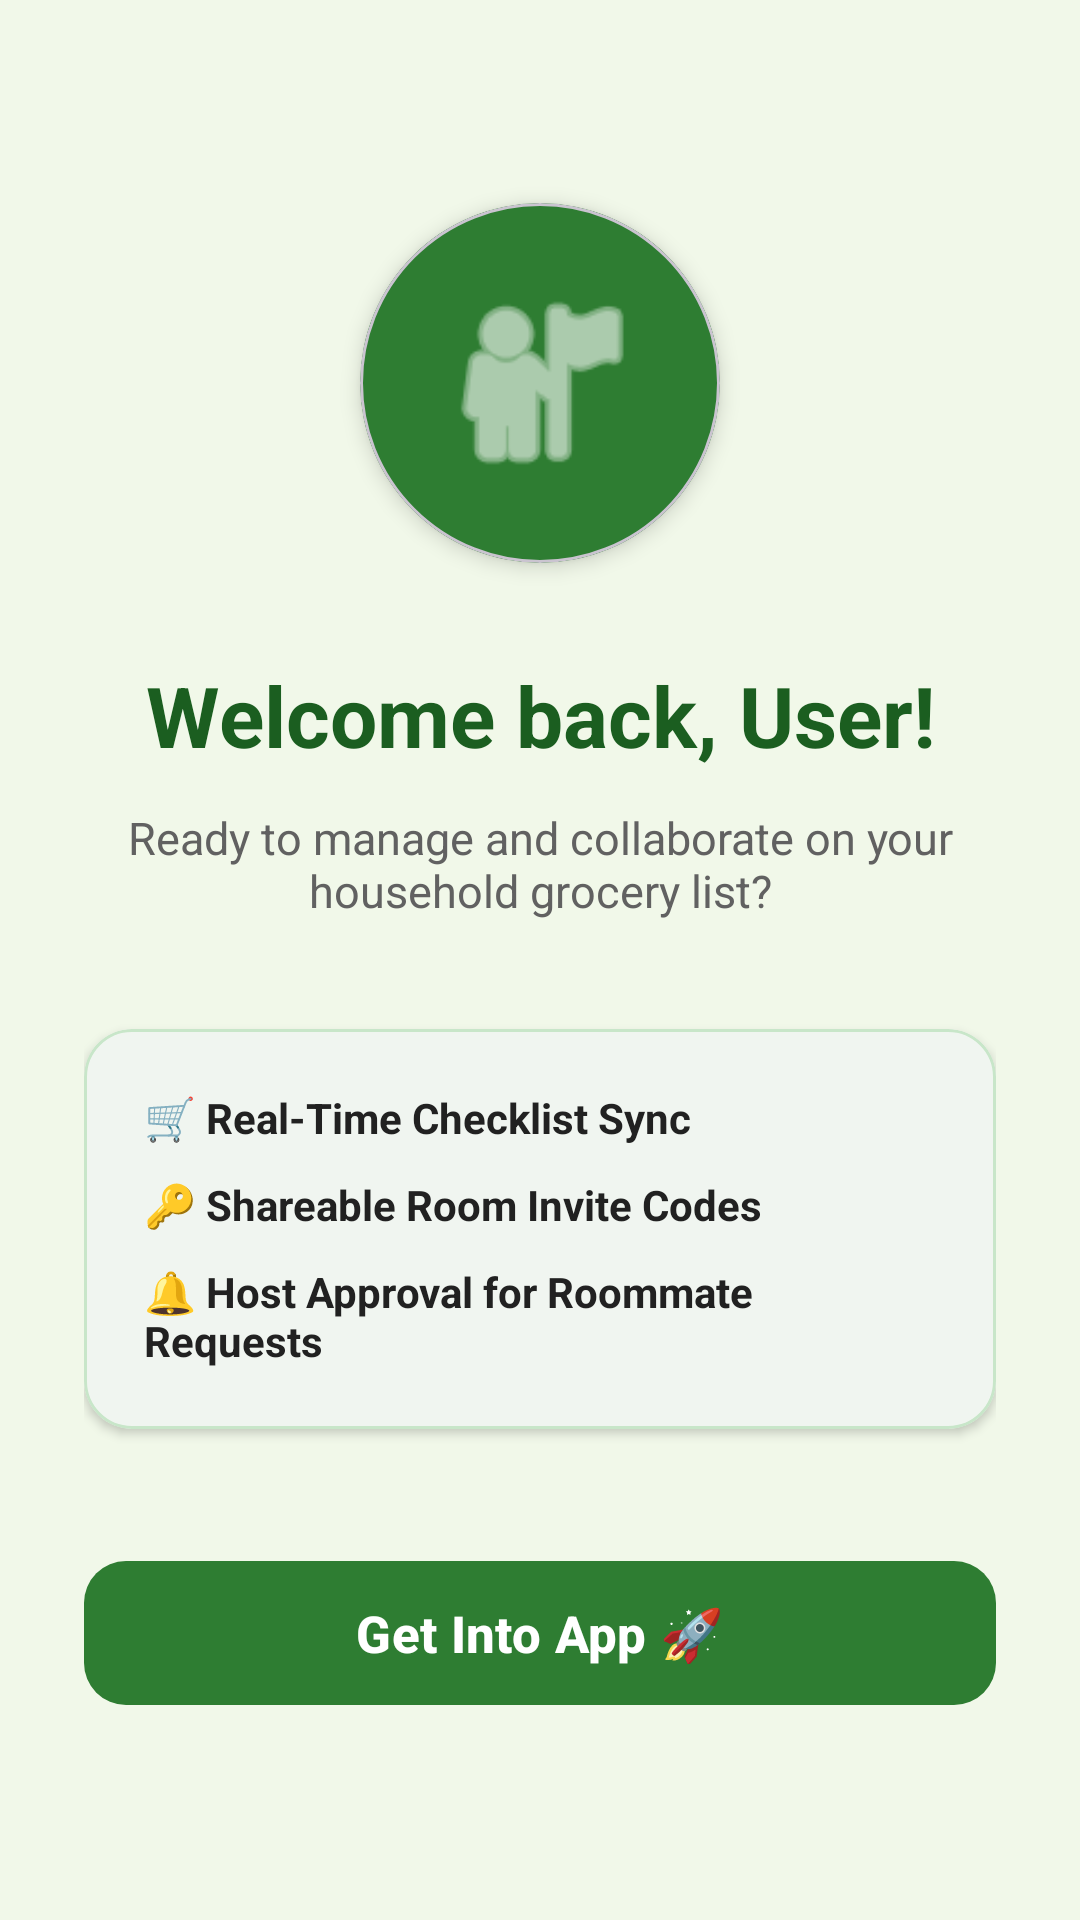

Icon bounding boxes for this 1080w x 1920h phone screenshot, format bbox=(x1, y1, x2, y2):
User Avatar: bbox=(360, 203, 720, 563)
